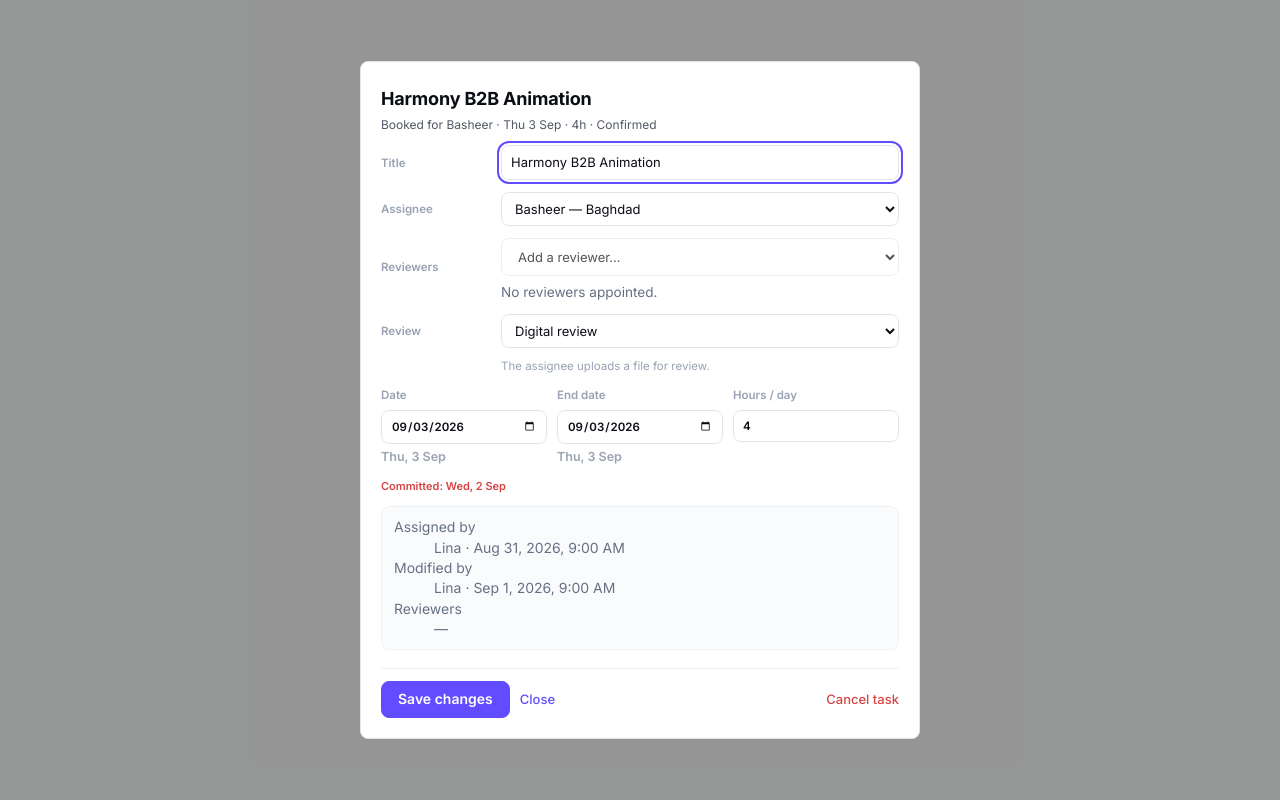
Scenario: EditBookingDialog — the end date is not re-derived on open (I41.2) › says it once a date is actually changed, and the end genuinely moves
This screenshot has width=1280, height=800.
Type "2026-09-04" into the date field with test id "edit-end-date" at (640, 427), box [557,410,723,444]
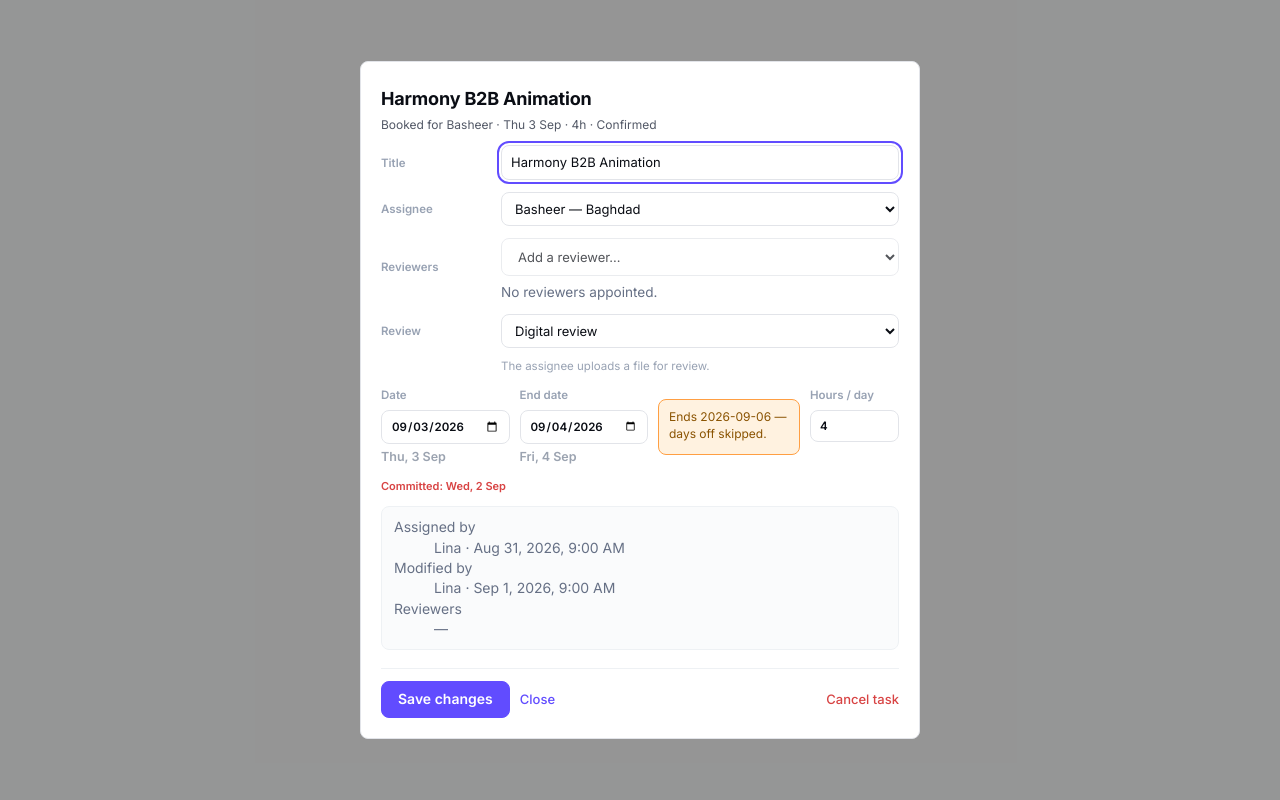
Expected: the text with test id "edit-ends-on" shows "2026-09-06", [669,409,786,441]
